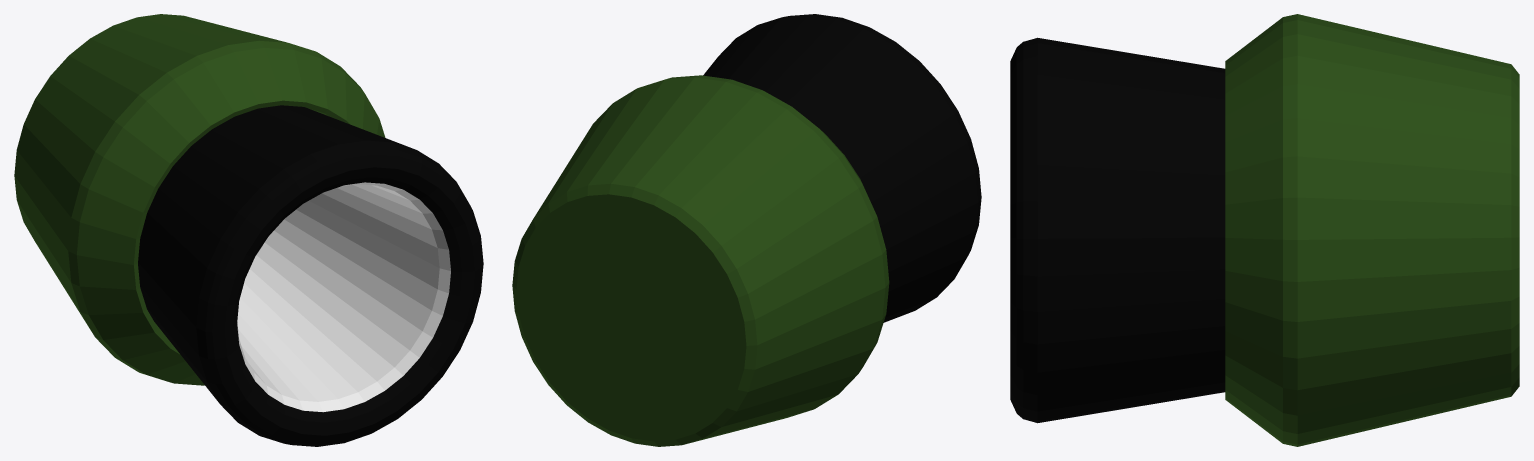
The model's file is barrel.fbx.
The picture shows the model from 3 angles, left to right: view 1: azimuth 30°, elevation 25°; view 2: azimuth 150°, elevation 25°; view 3: azimuth 270°, elevation 25°; orthographic projection. The views are drawn at different scales.
Visible parts, largest first — view 1: barrel; view 2: barrel; view 3: barrel.
Boxes of the visible parts, x1,y1,x2,y2 form: barrel: [14, 14, 483, 446]; barrel: [512, 14, 981, 446]; barrel: [1010, 14, 1519, 446].
Size of the model in its own units: 109 by 109 by 128.
